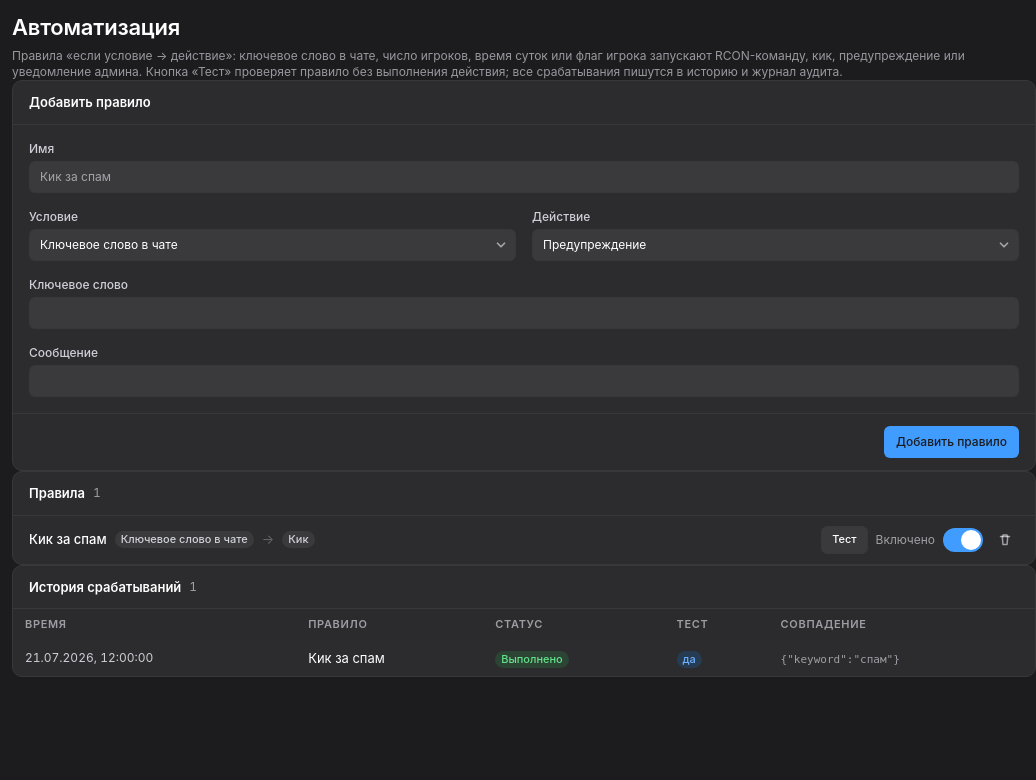
Test: AutomationPage › shows the API validation message instead of the bare status text on create failure
Type "Новое" into the field labelled "Имя" at (524, 177), box [29,161,1019,193]
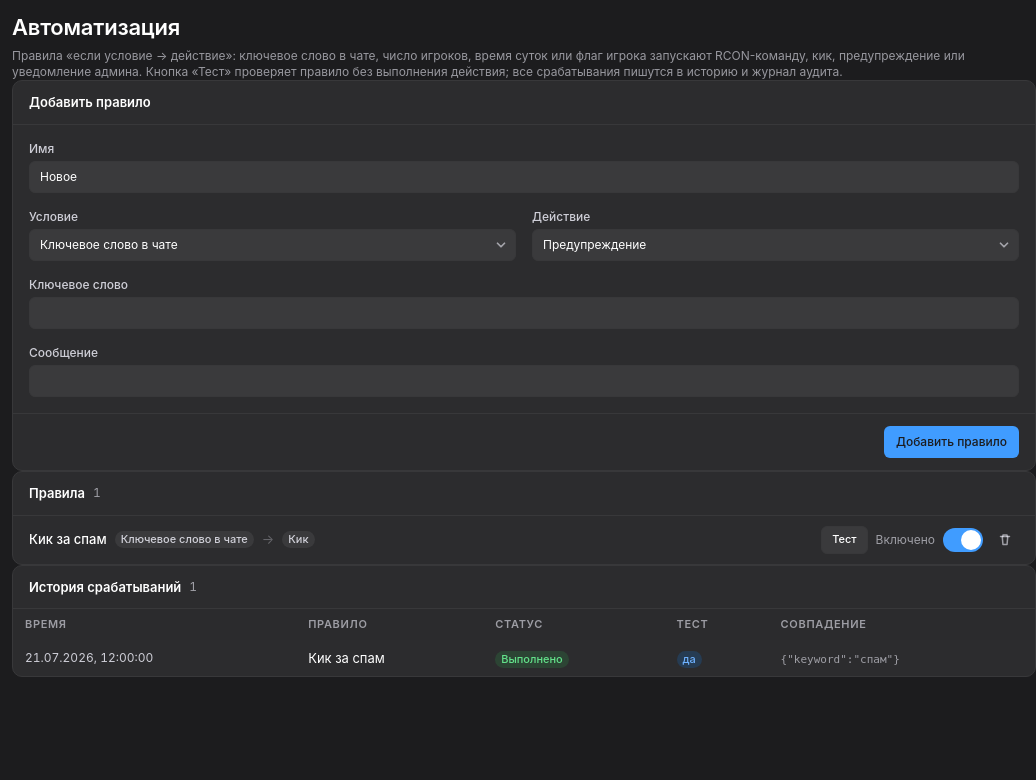
Click the button "Добавить правило" at (951, 442), box [884,426,1019,458]
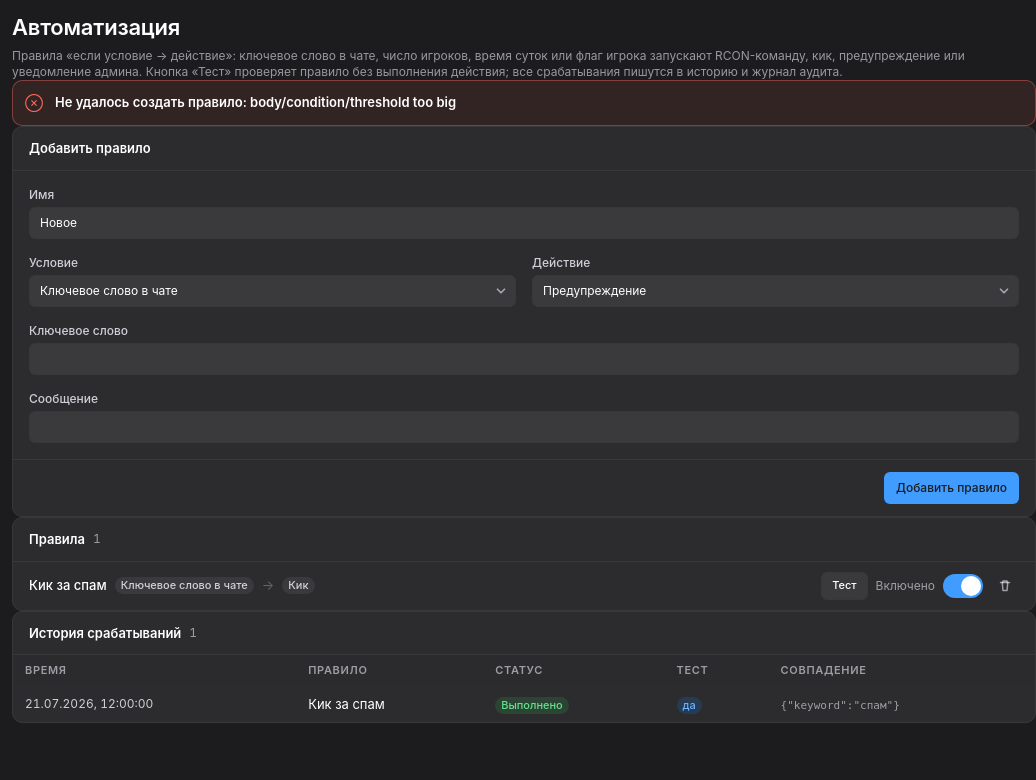
Result: the text "Не удалось создать правило: body/condition/threshold too big" is shown at [55,94,456,110]
